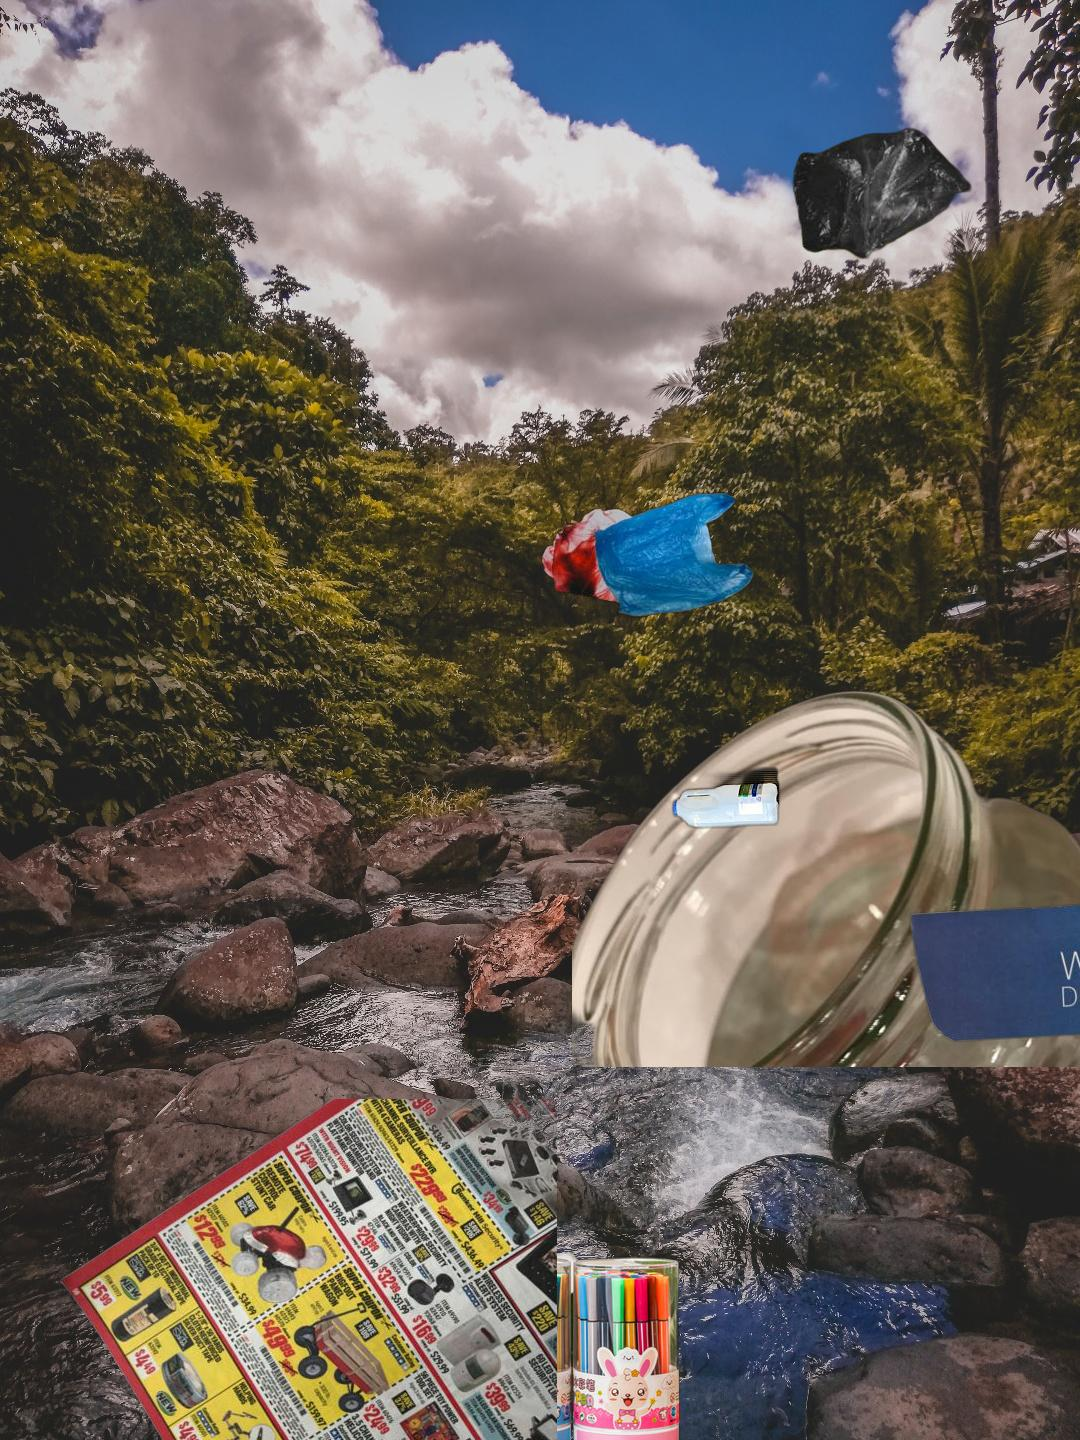glass: (572, 689, 1080, 1067)
paper: (56, 1099, 557, 1440), (905, 888, 1080, 1217)
penholder: (462, 1253, 683, 1440)
plastic-bag: (540, 490, 757, 620), (790, 125, 973, 262)
plastic-bottles: (669, 761, 785, 835)
